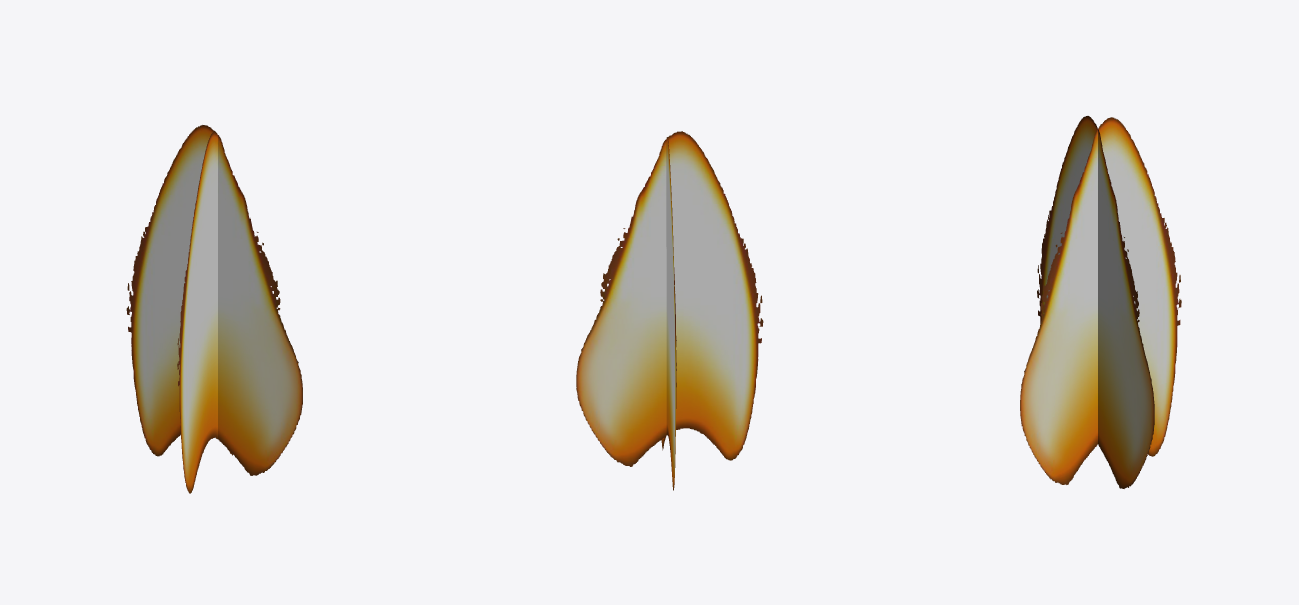
3 views of the same model, side by side, from view 1: azimuth 30°, elevation 25°; view 2: azimuth 150°, elevation 25°; view 3: azimuth 270°, elevation 25° (orthographic). The views are drawn at different scales.
Parts seen in each view (by area): view 1: FlameQuad; view 2: FlameQuad; view 3: FlameQuad.
Part boxes in pixels (bbox=[...]): FlameQuad: bbox=[126, 125, 302, 493]; FlameQuad: bbox=[576, 131, 763, 490]; FlameQuad: bbox=[1020, 116, 1181, 488].
Bounding box in the file's own units: 5.66 × 7 × 5.66.
